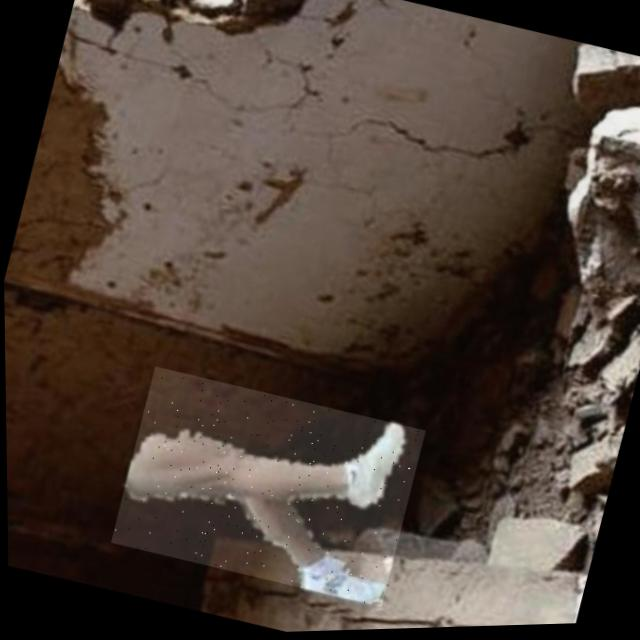Person in Rubble: (107, 360, 426, 614)
